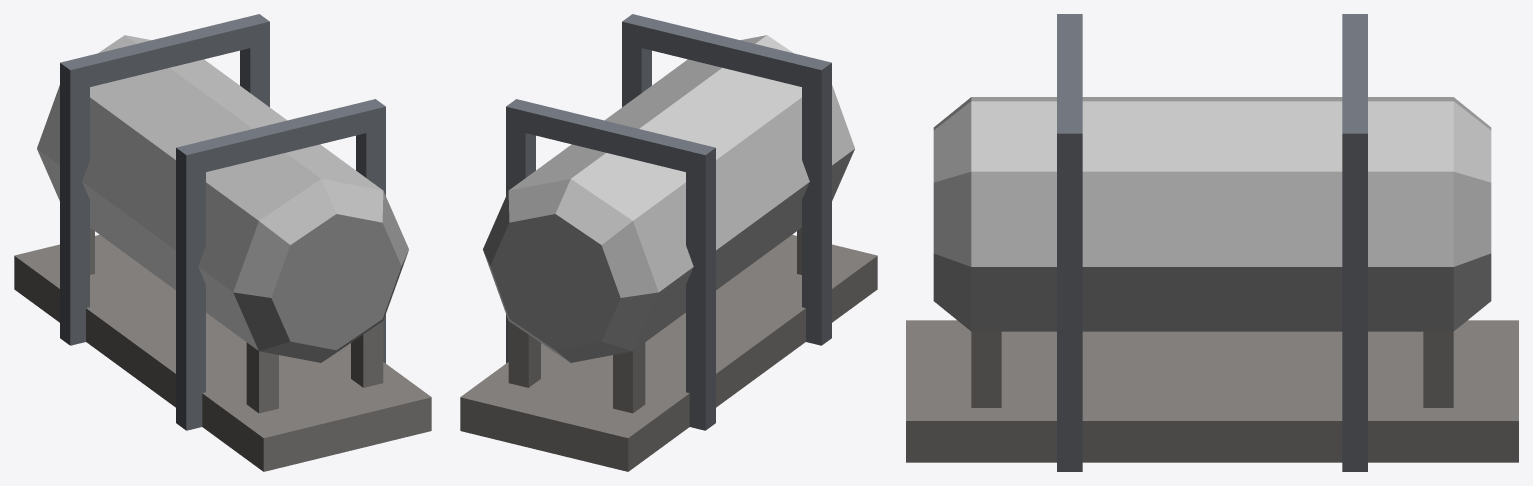
The model's file is SM_Fueltank_01.fbx.
3 views of the same model, side by side, from view 1: azimuth 30°, elevation 25°; view 2: azimuth 150°, elevation 25°; view 3: azimuth 270°, elevation 25° (orthographic). The views are drawn at different scales.
Parts seen in each view (by area): view 1: SM_Fueltank_01; view 2: SM_Fueltank_01; view 3: SM_Fueltank_01.
Part boxes in pixels (bbox=[...]): SM_Fueltank_01: bbox=[14, 14, 431, 471]; SM_Fueltank_01: bbox=[460, 14, 877, 471]; SM_Fueltank_01: bbox=[906, 14, 1518, 471].
Bounding box in the file's own units: 4.82 × 6.36 × 10.43.
